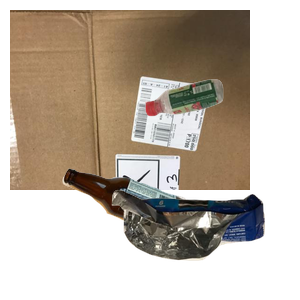cardboard: (10, 10, 250, 190)
glass: (60, 166, 241, 300)
plastic: (142, 77, 300, 186)
trash: (109, 187, 300, 300)
